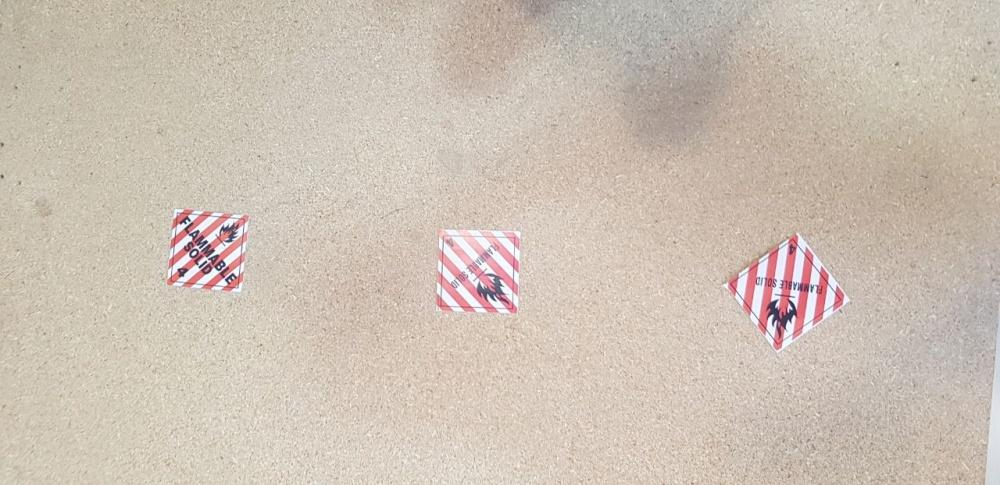flammable-solid: (723, 232, 851, 355), (435, 230, 523, 311), (167, 209, 250, 294)
